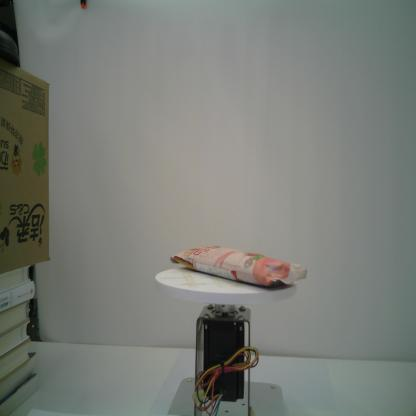Dessert: (169, 244, 308, 288)
